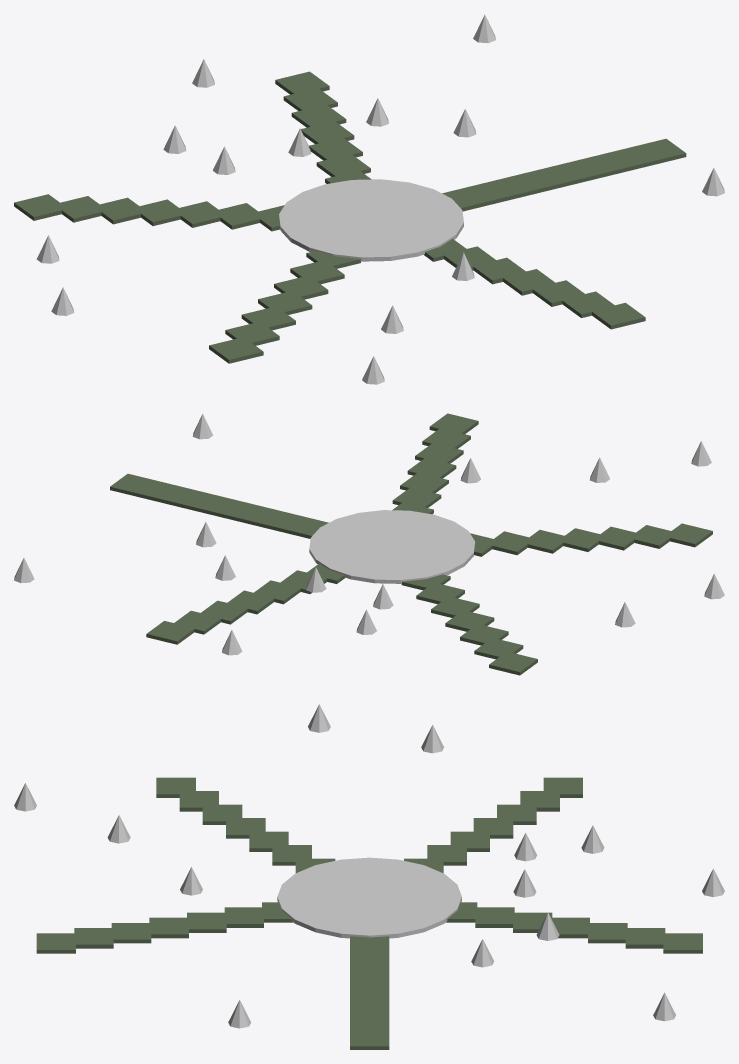
File: layout_main.obj
3 renders of one model, top to bottom at view 1: azimuth 30°, elevation 25°; view 2: azimuth 150°, elevation 25°; view 3: azimuth 270°, elevation 25°, orthographic. The views are drawn at different scales.
Parts seen in each view (by area): view 1: paths, plaza, scatter; view 2: paths, plaza, scatter; view 3: paths, plaza, scatter.
Part boxes in pixels (x1=…): paths: x1=14, y1=71, x2=686, y2=363; plaza: x1=279, y1=179, x2=463, y2=261; scatter: x1=36, y1=14, x2=724, y2=384; paths: x1=110, y1=413, x2=712, y2=675; plaza: x1=309, y1=510, x2=475, y2=583; scatter: x1=14, y1=414, x2=724, y2=655; paths: x1=36, y1=777, x2=702, y2=1049; plaza: x1=277, y1=857, x2=461, y2=938; scatter: x1=14, y1=704, x2=724, y2=1028.
Bounding box in the file's own units: 56.32 × 3.08 × 53.94.
